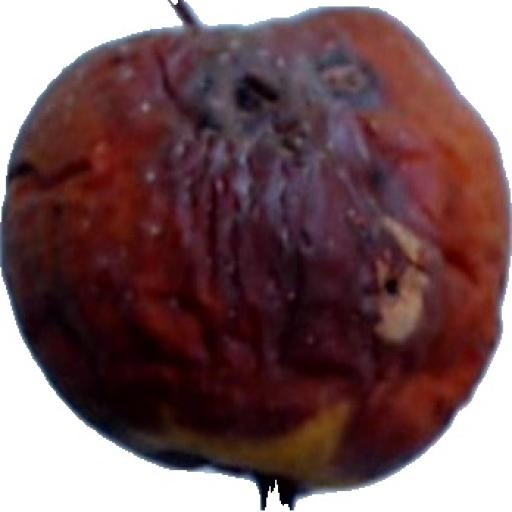apple-overripe: (0, 5, 335, 498)
